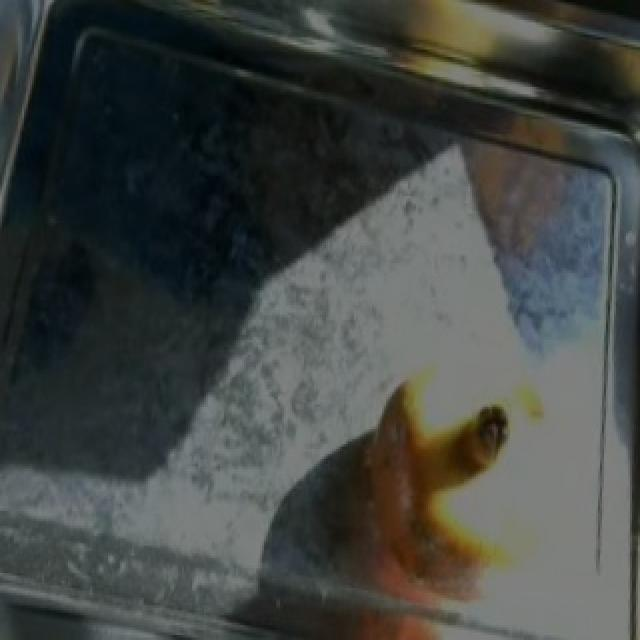fruit: (352, 335, 568, 501)
